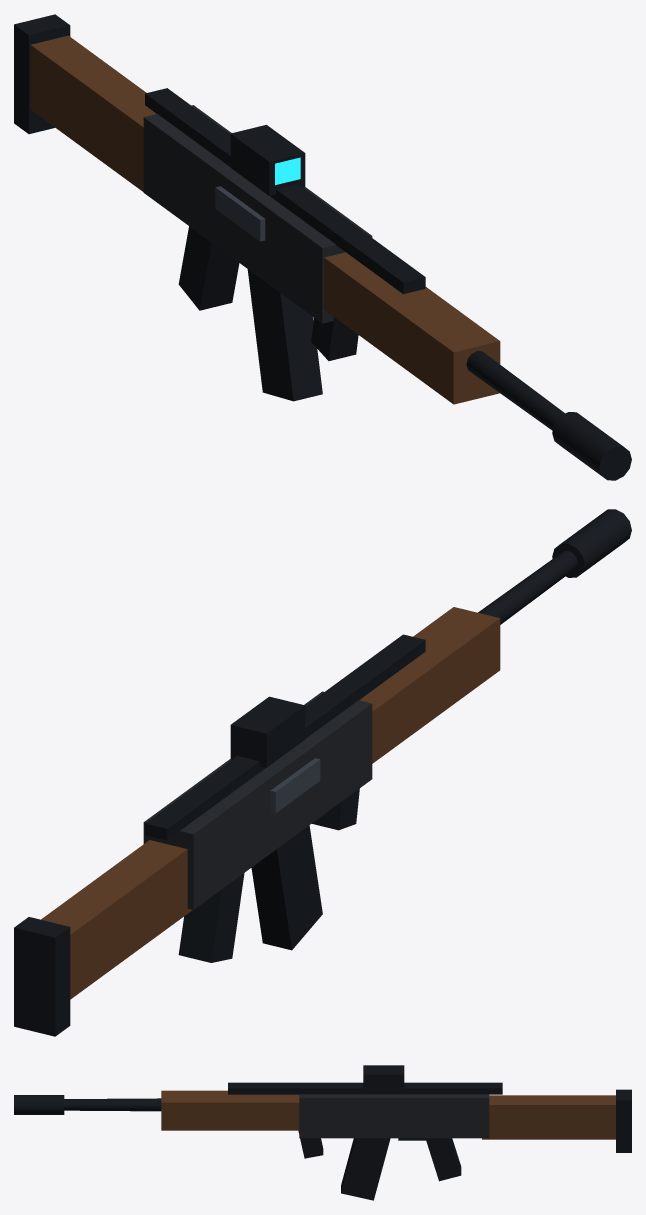
Rendered from akm.glb.
3 views of the same model, one above another, from view 1: azimuth 30°, elevation 25°; view 2: azimuth 150°, elevation 25°; view 3: azimuth 270°, elevation 25° (orthographic). The views are drawn at different scales.
Visible parts, largest first — view 1: Weapon_akm; view 2: Weapon_akm; view 3: Weapon_akm.
Part boxes in pixels (x1,y1,x2,y2): Weapon_akm: [14, 14, 631, 480]; Weapon_akm: [14, 509, 631, 1036]; Weapon_akm: [14, 1065, 631, 1200].
Bounding box in the file's own units: 0.064 × 0.2652 × 1.17.
